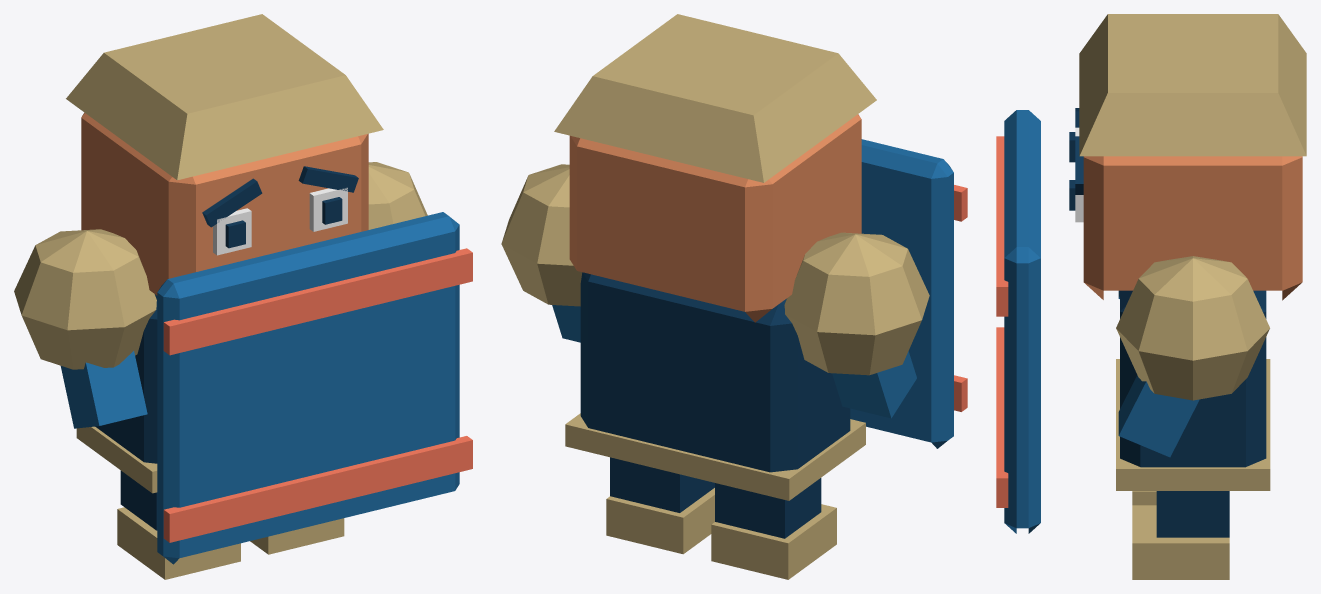
Rendered from brute_r15.glb.
The picture shows the model from 3 angles, left to right: view 1: azimuth 30°, elevation 25°; view 2: azimuth 150°, elevation 25°; view 3: azimuth 270°, elevation 25°; orthographic projection. The views are drawn at different scales.
Parts seen in each view (by area): view 1: brute_r15_mesh; view 2: brute_r15_mesh; view 3: brute_r15_mesh.
Part boxes in pixels (bbox=[...]): brute_r15_mesh: bbox=[14, 14, 472, 579]; brute_r15_mesh: bbox=[501, 14, 967, 579]; brute_r15_mesh: bbox=[996, 14, 1306, 579].
Size of the model in its own units: 1.98 by 2.2 by 1.28.
1 material, 1 textured.
